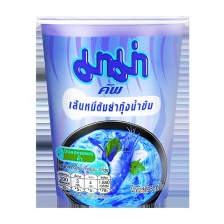paper_cup: (35, 17, 189, 207)
